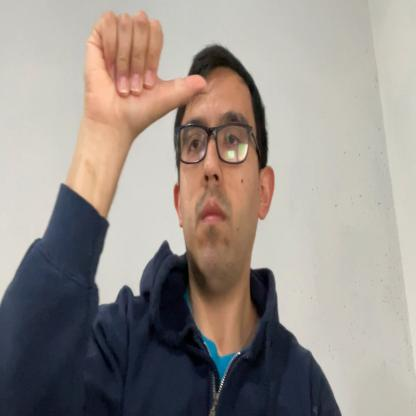A: (82, 11, 208, 133)
